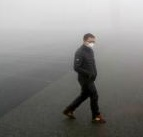person: (63, 32, 109, 124)
